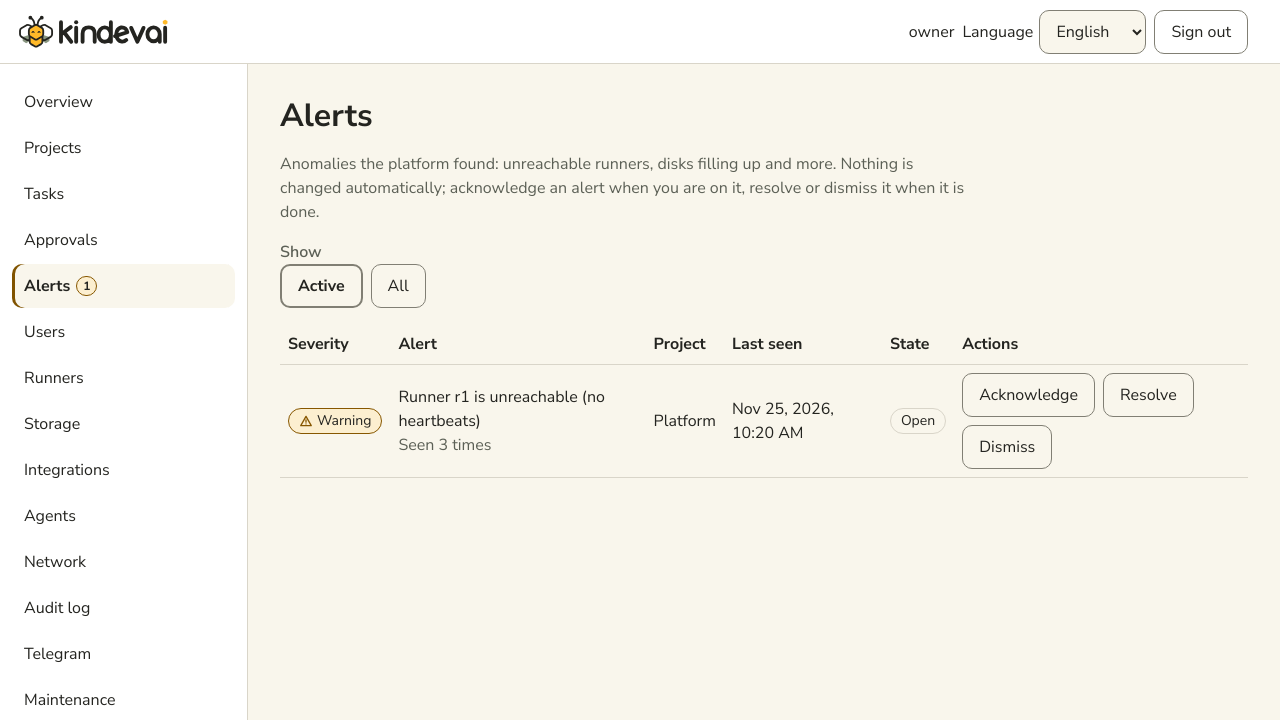
Scenario: alert center › reports a failed action
The image size is (1280, 720).
Click the button "Resolve" at {"x": 1148, "y": 395}, box [1103,373,1194,417]
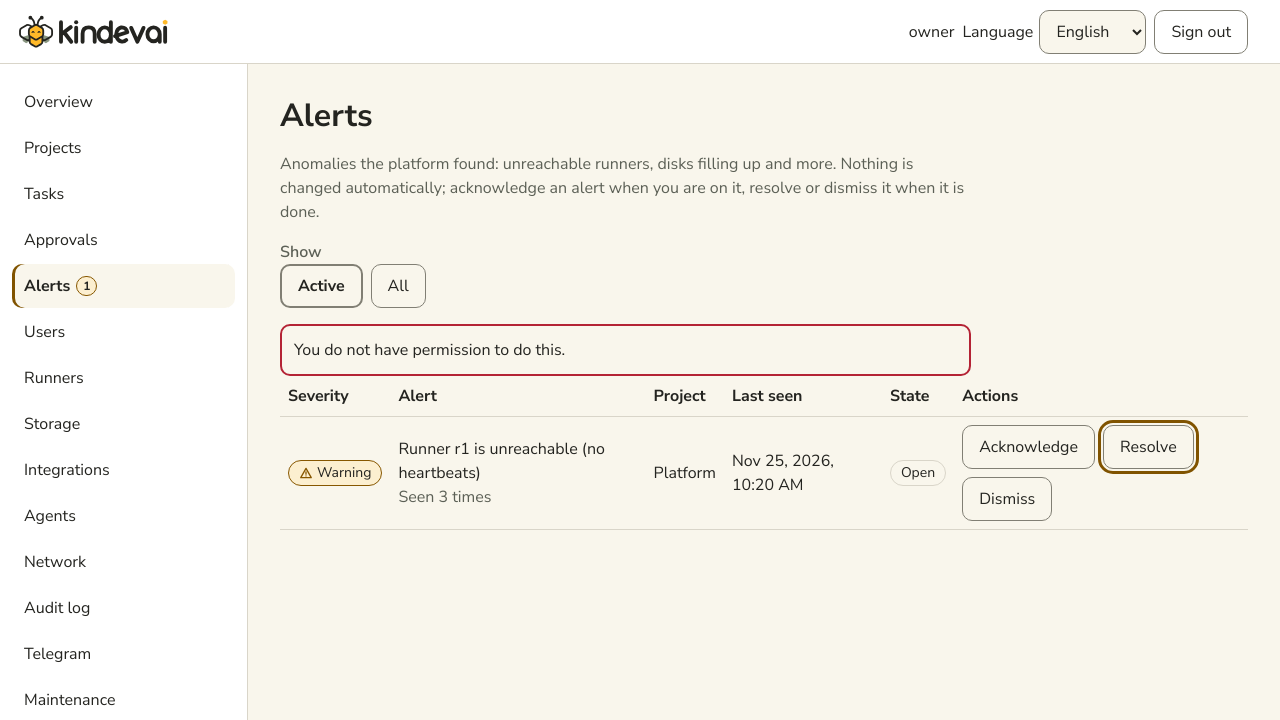
Expected: the message shows "permission", [294,339,565,361]
